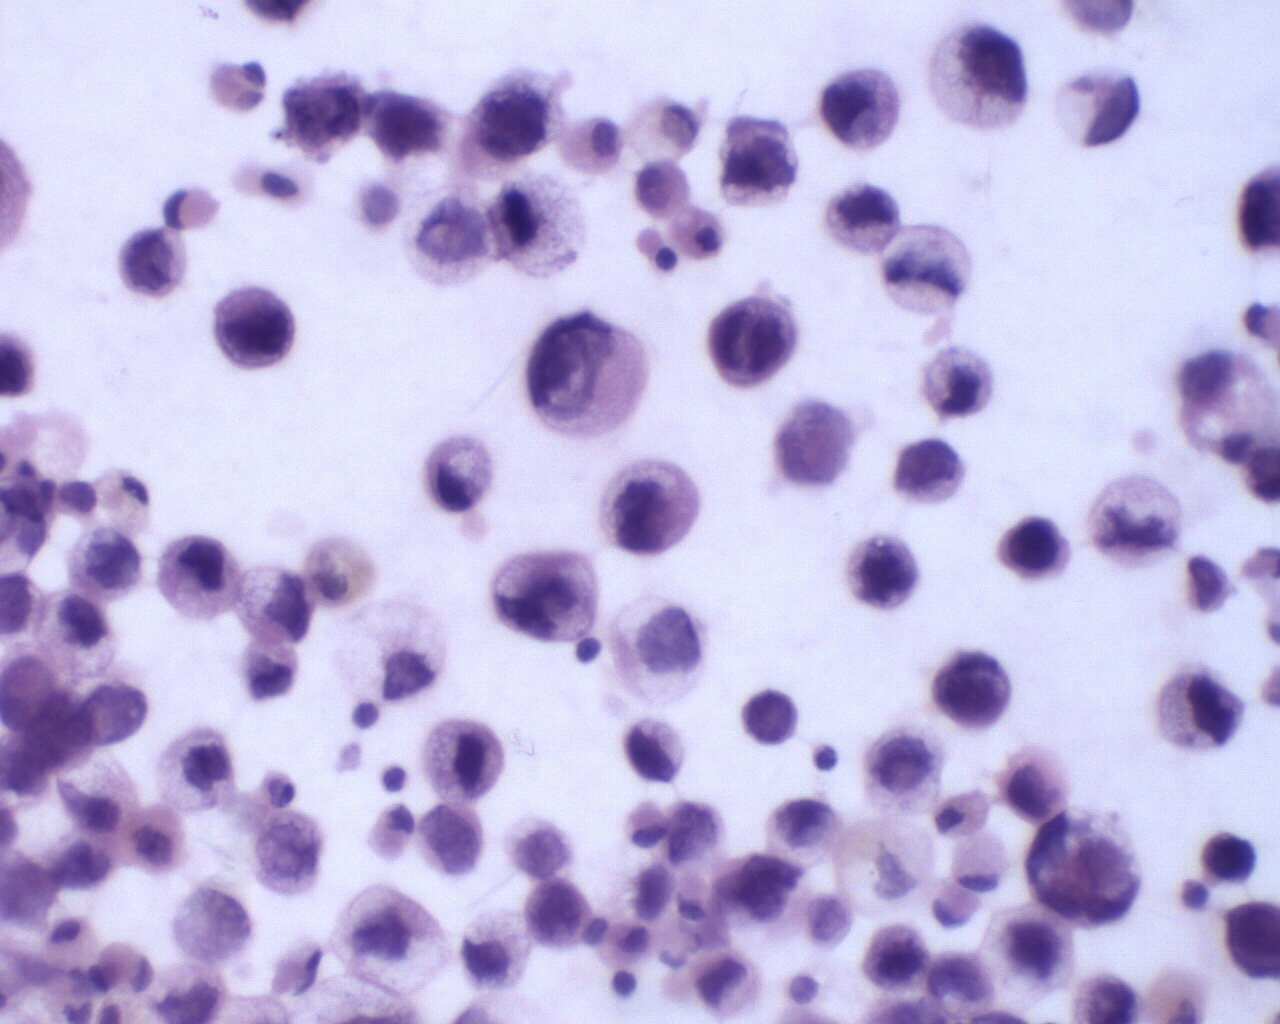ab: (522, 311, 660, 440), (328, 881, 455, 1004), (925, 17, 1035, 140), (599, 450, 702, 560), (1088, 471, 1191, 571), (698, 293, 799, 385), (152, 527, 241, 623), (205, 280, 299, 371), (1151, 668, 1247, 754), (924, 645, 1019, 728), (818, 60, 902, 154), (840, 526, 923, 609), (66, 527, 149, 607), (822, 176, 901, 261), (990, 514, 1078, 587), (518, 875, 598, 954), (920, 344, 998, 422), (889, 434, 968, 509), (117, 223, 193, 299), (862, 922, 935, 993), (743, 681, 800, 751)
lymph: (573, 630, 602, 667)
meso: (633, 154, 696, 223), (564, 114, 626, 179)
